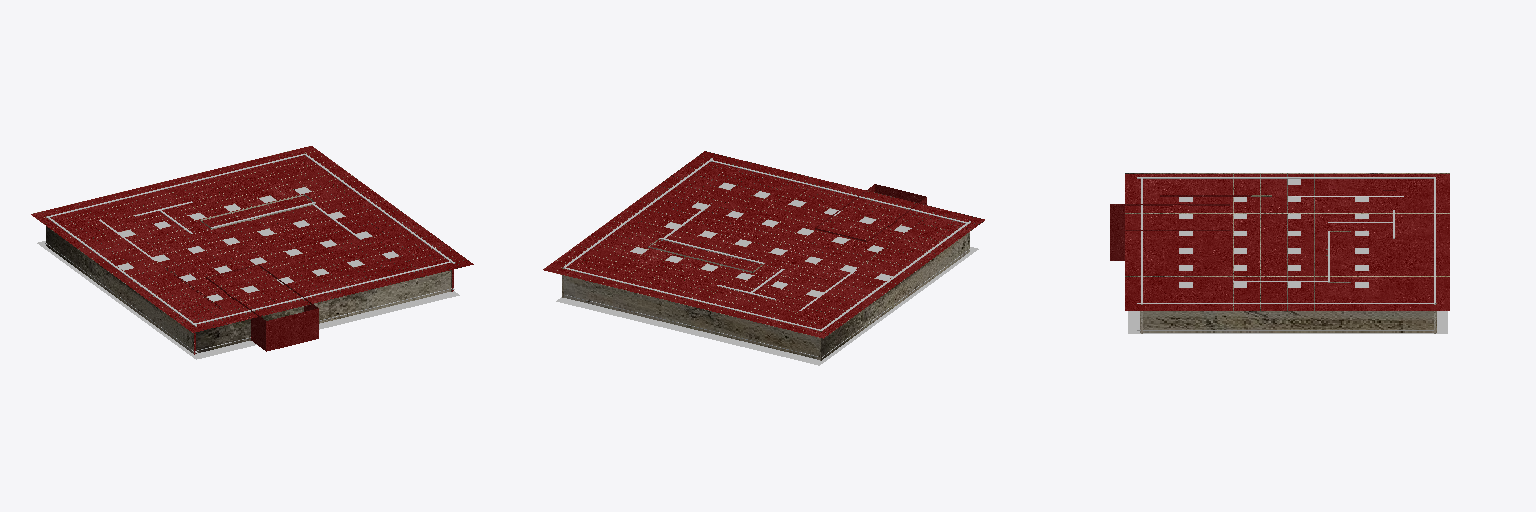
3 renders of one model, left to right at view 1: azimuth 30°, elevation 25°; view 2: azimuth 150°, elevation 25°; view 3: azimuth 270°, elevation 25°, orthographic.
Parts seen in each view (by area): view 1: Ceiling, BackWall_Double_BR.028, Air_Vent.005, Piece1, Carpet_v1.001; view 2: Ceiling, BackWall_Double_BR.028, Air_Vent.005, Carpet_v1.001, Piece1; view 3: Ceiling, BackWall_Double_BR.028, Air_Vent.005, Piece1, Carpet_v1.001.
Boxes of the visible parts, <box> form: Ceiling: <box>31,146,473,332</box>; BackWall_Double_BR.028: <box>45,153,454,354</box>; Air_Vent.005: <box>33,146,468,332</box>; Piece1: <box>206,264,318,351</box>; Carpet_v1.001: <box>37,241,459,359</box>; Ceiling: <box>543,151,984,338</box>; BackWall_Double_BR.028: <box>562,158,970,360</box>; Air_Vent.005: <box>544,151,982,337</box>; Carpet_v1.001: <box>556,247,978,365</box>; Piece1: <box>815,184,926,241</box>; Ceiling: <box>1125,174,1449,310</box>; BackWall_Double_BR.028: <box>1137,177,1436,333</box>; Air_Vent.005: <box>1125,173,1449,310</box>; Piece1: <box>1110,204,1229,260</box>; Carpet_v1.001: <box>1128,311,1447,333</box>.
Bounding box in the file's own units: 21.89 × 2.3 × 22.9.
11 materials, 3 textured.